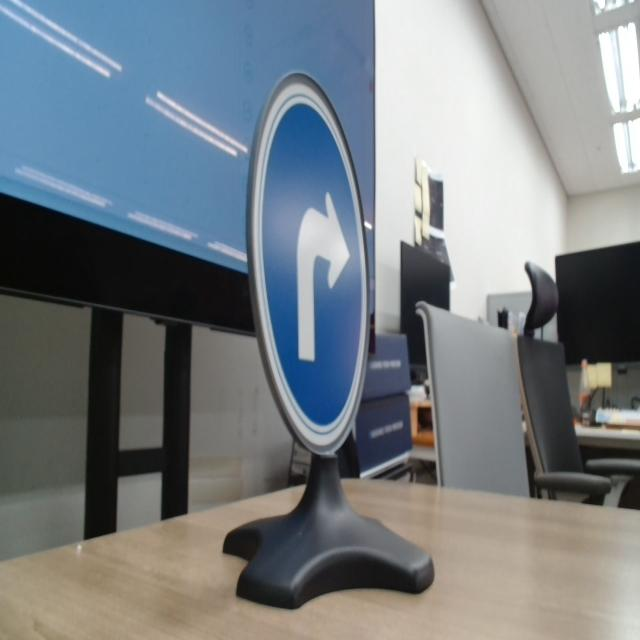right_dierection: (248, 66, 374, 460)
